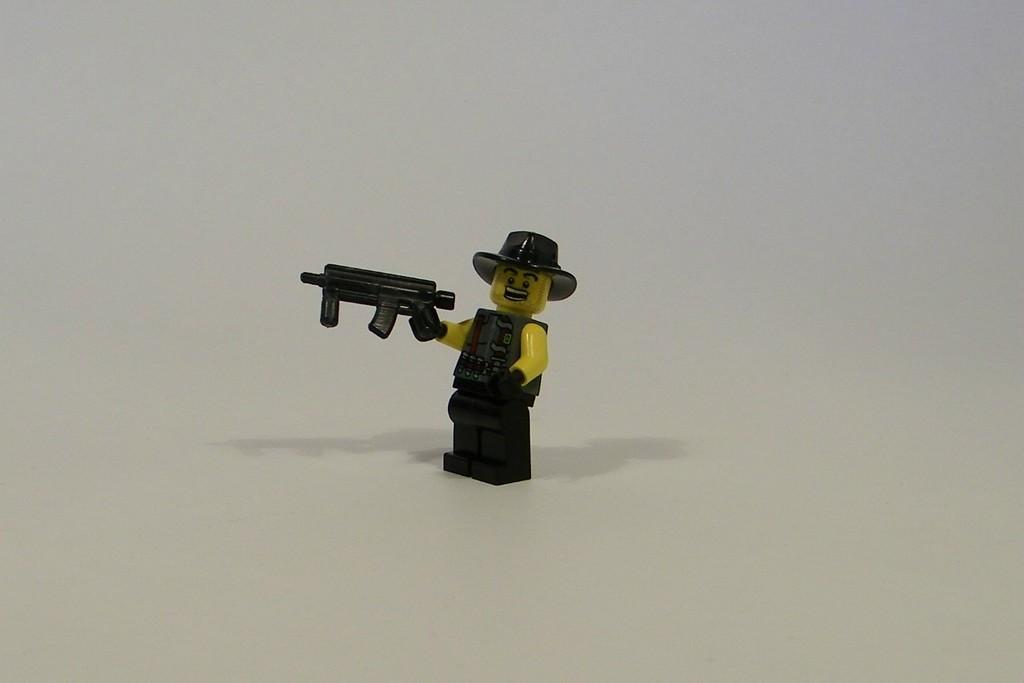Rifle: (299, 264, 456, 340)
